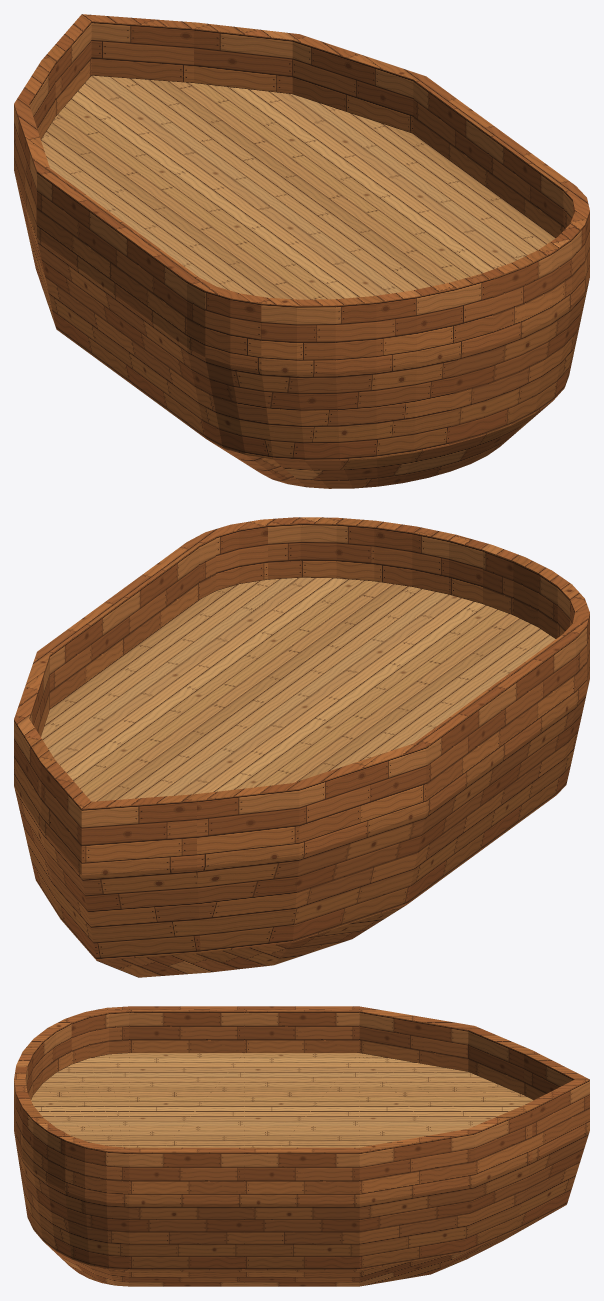
File: SINGLE_DECK.glb
3 views of the same model, one above another, from view 1: azimuth 30°, elevation 25°; view 2: azimuth 150°, elevation 25°; view 3: azimuth 270°, elevation 25° (orthographic). The views are drawn at different scales.
Visible parts, largest first — view 1: 03_BOTTOM_STERN, 08_FLOOR_BOW, 04_TOP_BOW, 07_TOP_STERN, 09_FLOOR_CENTRE, 10_FLOOR_CENTRE, 05_TOP_CENTRE, 06_TOP_CENTRE, 01_BOTTOM_CENTRE, 02_BOTTOM_CENTRE, 11_FLOOR_STERN, 00_BOTTOM_BOW; view 2: 00_BOTTOM_BOW, 04_TOP_BOW, 07_TOP_STERN, 10_FLOOR_CENTRE, 09_FLOOR_CENTRE, 11_FLOOR_STERN, 08_FLOOR_BOW, 05_TOP_CENTRE, 06_TOP_CENTRE, 01_BOTTOM_CENTRE, 02_BOTTOM_CENTRE, 03_BOTTOM_STERN; view 3: 04_TOP_BOW, 00_BOTTOM_BOW, 07_TOP_STERN, 05_TOP_CENTRE, 09_FLOOR_CENTRE, 10_FLOOR_CENTRE, 06_TOP_CENTRE, 01_BOTTOM_CENTRE, 02_BOTTOM_CENTRE, 08_FLOOR_BOW, 03_BOTTOM_STERN, 11_FLOOR_STERN.
Boxes of the visible parts, box(x1,y1,x2,y2) form: 03_BOTTOM_STERN: box(187, 265, 589, 488); 08_FLOOR_BOW: box(41, 75, 412, 208); 04_TOP_BOW: box(14, 14, 425, 224); 07_TOP_STERN: box(187, 186, 589, 360); 09_FLOOR_CENTRE: box(106, 134, 487, 263); 10_FLOOR_CENTRE: box(181, 189, 555, 299); 05_TOP_CENTRE: box(37, 76, 500, 279); 06_TOP_CENTRE: box(112, 131, 575, 334); 01_BOTTOM_CENTRE: box(37, 226, 131, 383); 02_BOTTOM_CENTRE: box(112, 281, 206, 438); 11_FLOOR_STERN: box(335, 249, 538, 299); 00_BOTTOM_BOW: box(14, 159, 56, 328); 00_BOTTOM_BOW: box(14, 774, 426, 977); 04_TOP_BOW: box(14, 652, 426, 863); 07_TOP_STERN: box(187, 517, 589, 690); 10_FLOOR_CENTRE: box(125, 599, 506, 729); 09_FLOOR_CENTRE: box(50, 654, 432, 774); 11_FLOOR_STERN: box(200, 577, 555, 674); 08_FLOOR_BOW: box(41, 709, 317, 801); 05_TOP_CENTRE: box(37, 597, 501, 800); 06_TOP_CENTRE: box(112, 542, 575, 745); 01_BOTTOM_CENTRE: box(407, 746, 501, 904); 02_BOTTOM_CENTRE: box(482, 692, 575, 849); 03_BOTTOM_STERN: box(557, 668, 589, 794); 04_TOP_BOW: box(359, 1006, 589, 1193); 00_BOTTOM_BOW: box(359, 1121, 589, 1286); 07_TOP_STERN: box(14, 1006, 129, 1194); 05_TOP_CENTRE: box(244, 1006, 359, 1194); 09_FLOOR_CENTRE: box(244, 1053, 359, 1147); 10_FLOOR_CENTRE: box(129, 1053, 244, 1147); 06_TOP_CENTRE: box(129, 1006, 244, 1194); 01_BOTTOM_CENTRE: box(244, 1194, 359, 1286); 02_BOTTOM_CENTRE: box(129, 1194, 244, 1286); 08_FLOOR_BOW: box(359, 1053, 533, 1147); 03_BOTTOM_STERN: box(14, 1122, 129, 1286); 11_FLOOR_STERN: box(31, 1053, 129, 1147).
Size of the model in its own units: 6 by 3.4 by 10.
2 materials, 2 textured.
